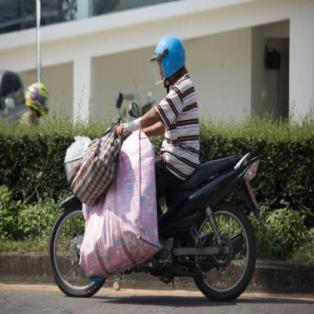Motocicleta: (48, 119, 264, 307)
